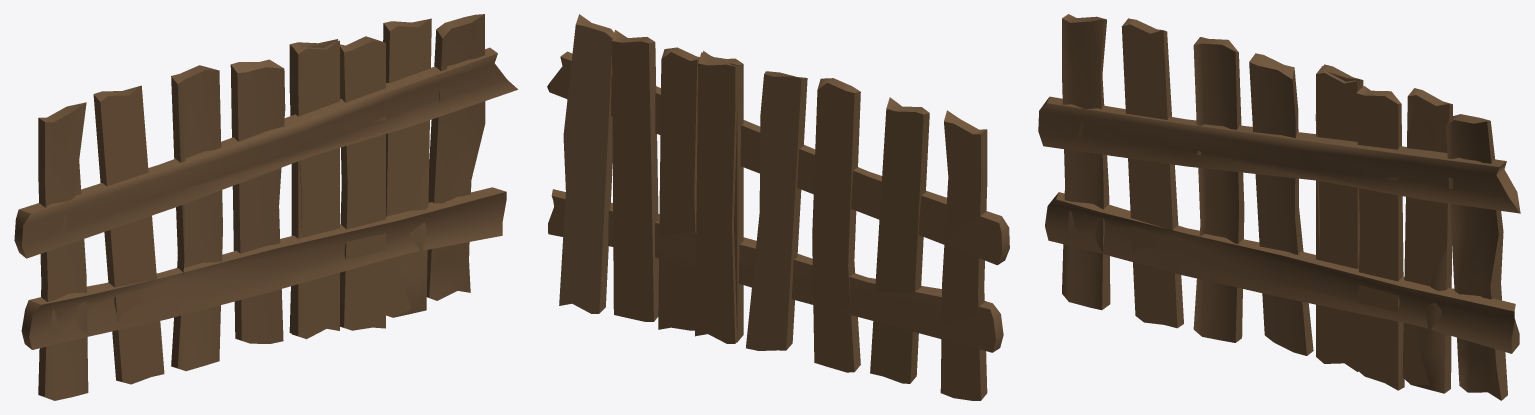
File: fence gat deb .fbx
3 renders of one model, left to right at view 1: azimuth 30°, elevation 25°; view 2: azimuth 150°, elevation 25°; view 3: azimuth 330°, elevation 25°, orthographic. The views are drawn at different scales.
Visible parts, largest first — view 1: pCube11, pCube12, pCube2, pCube7, pCube3, pCube1, pCube4, pCube6, pCube8, pCube10, pCube9, pCube5; view 2: pCube8, pCube9, pCube3, pCube4, pCube5, pCube2, pCube12, pCube1, pCube7, pCube11, pCube10, pCube6; view 3: pCube11, pCube12, pCube2, pCube7, pCube3, pCube1, pCube4, pCube8, pCube6, pCube10, pCube9, pCube5.
Part boxes in pixels (<box>): pCube11: <box>14,47,517,258</box>; pCube12: <box>21,187,506,349</box>; pCube2: <box>93,85,164,384</box>; pCube7: <box>340,36,385,330</box>; pCube3: <box>171,65,222,371</box>; pCube1: <box>38,102,88,400</box>; pCube4: <box>230,59,285,343</box>; pCube6: <box>291,40,339,339</box>; pCube8: <box>426,14,485,300</box>; pCube10: <box>383,18,431,317</box>; pCube9: <box>383,18,430,317</box>; pCube5: <box>289,39,337,333</box>; pCube8: <box>559,14,613,313</box>; pCube9: <box>612,30,658,321</box>; pCube3: <box>812,78,860,372</box>; pCube4: <box>746,71,807,350</box>; pCube5: <box>695,52,743,343</box>; pCube2: <box>870,97,929,383</box>; pCube12: <box>548,189,1003,352</box>; pCube1: <box>940,110,987,400</box>; pCube7: <box>658,47,699,330</box>; pCube11: <box>547,51,1009,265</box>; pCube10: <box>612,41,658,321</box>; pCube6: <box>703,51,743,342</box>; pCube11: <box>1038,96,1520,213</box>; pCube12: <box>1045,192,1519,353</box>; pCube2: <box>1121,18,1183,328</box>; pCube7: <box>1356,86,1404,390</box>; pCube3: <box>1193,37,1244,342</box>; pCube1: <box>1062,14,1110,309</box>; pCube4: <box>1249,53,1313,355</box>; pCube8: <box>1446,114,1507,400</box>; pCube6: <box>1316,66,1358,371</box>; pCube10: <box>1402,95,1452,392</box>; pCube9: <box>1407,88,1452,393</box>; pCube5: <box>1315,64,1363,268</box>.
Size of the model in its own units: 4.98 by 2.94 by 0.3743.
